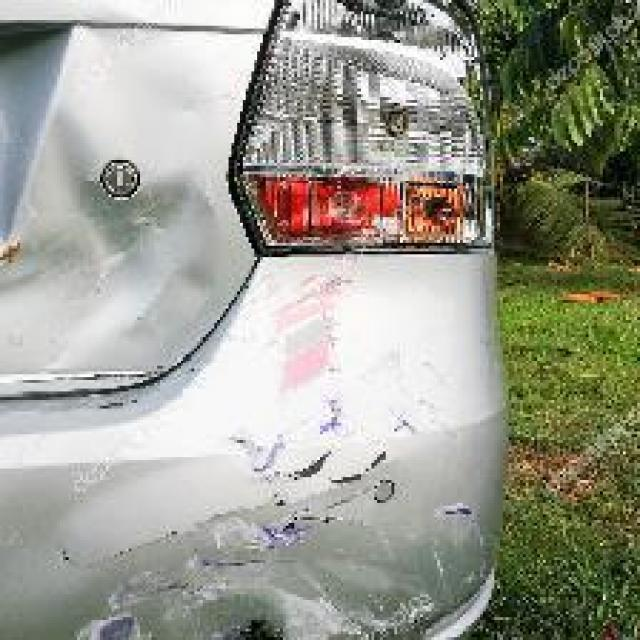damaged: (80, 434, 503, 637), (0, 108, 234, 417), (260, 260, 423, 434)
